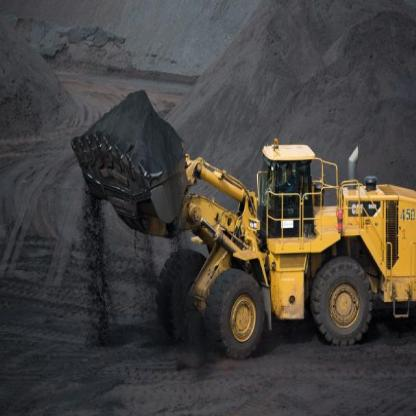bull_dozer/loader/grader: (77, 79, 413, 355)
